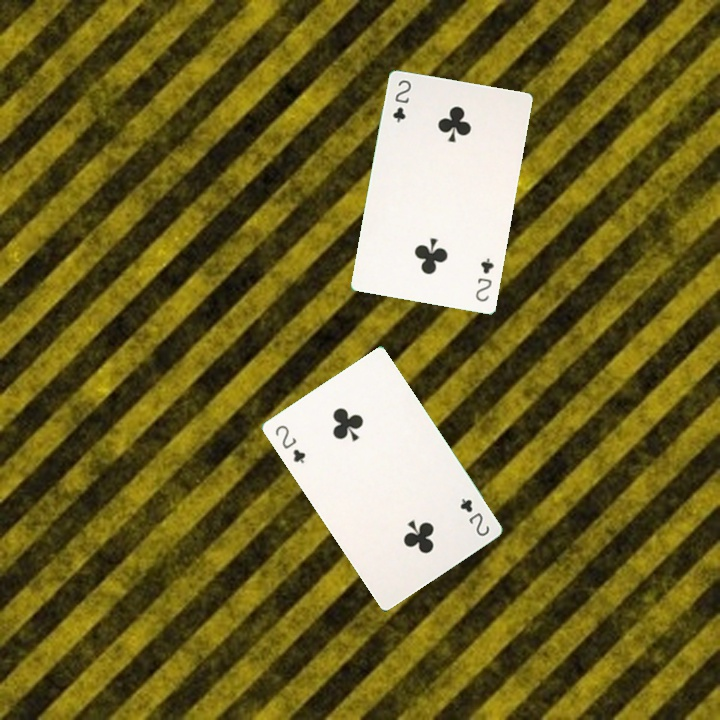2c: (271, 421, 308, 466), (456, 494, 492, 539), (471, 254, 497, 304), (388, 76, 414, 125)
